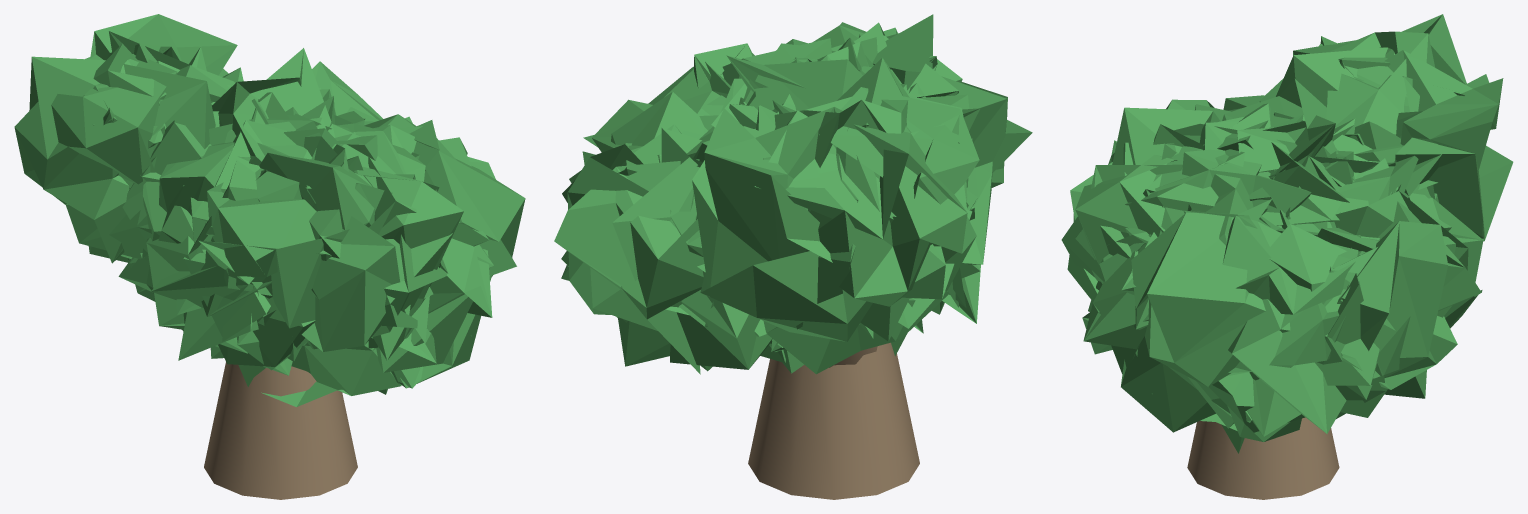
The model's file is tree_oak_hf.glb.
3 renders of one model, left to right at view 1: azimuth 30°, elevation 25°; view 2: azimuth 150°, elevation 25°; view 3: azimuth 270°, elevation 25°, orthographic. The views are drawn at different scales.
Visible parts, largest first — view 1: tree_oak_v1; view 2: tree_oak_v1; view 3: tree_oak_v1.
Part boxes in pixels (bbox=[...]): tree_oak_v1: bbox=[14, 14, 525, 499]; tree_oak_v1: bbox=[554, 14, 1032, 499]; tree_oak_v1: bbox=[1061, 14, 1513, 499].
Bounding box in the file's own units: 2.39 × 2.27 × 2.38.
